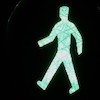green: (34, 30, 63, 73)
